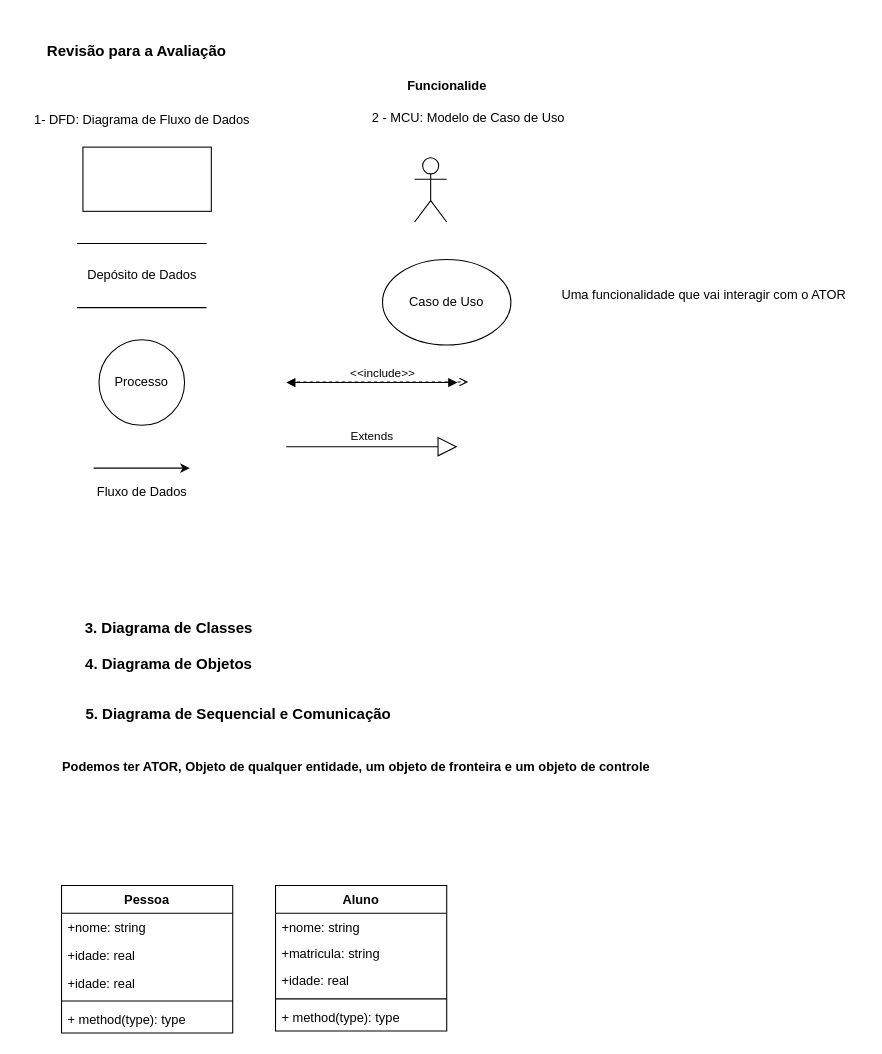
The diagram is 882 pixels wide and 1054 high, and some of its shapes have lost their labels. The centre of each missing label's shape, as x and y in pixels:
"Actor" goes at (x=430, y=189).
"Entidade" goes at (x=146, y=178).
